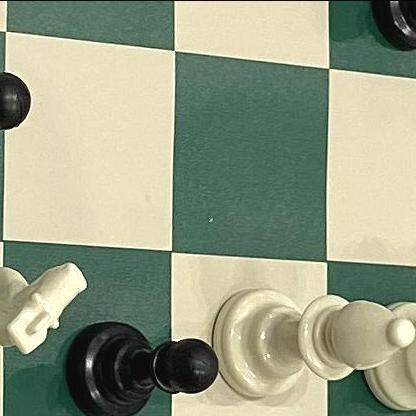black-pawn: (62, 307, 240, 416), (0, 46, 42, 179)
white-bishop: (201, 272, 416, 413)
white-knight: (0, 224, 95, 396)
white-rook: (353, 278, 416, 416)
